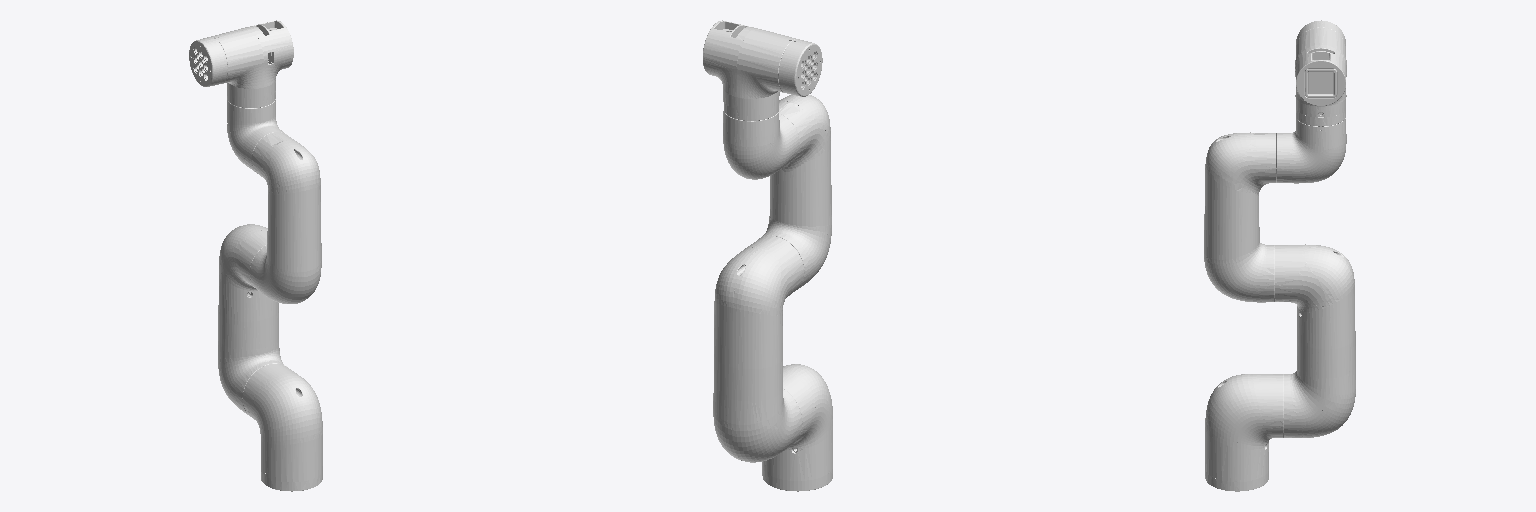
The robot description file, URDF, robot "cobot_reassembled":
<?xml version="1.0" encoding="utf-8"?>
<!-- This URDF was automatically created by SolidWorks to URDF Exporter! Originally created by [author] ([email redacted]) 
     Commit Version: 1.6.0-4-g7f85cfe  Build Version: 1.6.7995.38578
     For more information, please see http://wiki.ros.org/sw_urdf_exporter -->
<robot
  name="cobot_reassembled">
  <link
    name="base_link">
    <inertial>
      <origin
        xyz="0.00042355 -0.00096231 -0.013699"
        rpy="0 0 0" />
      <mass
        value="0.35308" />
      <inertia
        ixx="0.00027585"
        ixy="4.4784E-06"
        ixz="1.1071E-06"
        iyy="0.00039734"
        iyz="-3.5618E-07"
        izz="0.00031604" />
    </inertial>
    <visual>
      <origin
        xyz="0 0 0"
        rpy="0 0 0" />
      <geometry>
        <mesh
          filename="package://cobot_reassembled/meshes/base_link.STL" />
      </geometry>
      <material
        name="">
        <color
          rgba="0.94118 0.94118 0.94118 1" />
      </material>
    </visual>
    <collision>
      <origin
        xyz="0 0 0"
        rpy="0 0 0" />
      <geometry>
        <mesh
          filename="package://cobot_reassembled/meshes/base_link.STL" />
      </geometry>
    </collision>
  </link>
  <link
    name="link1">
    <inertial>
      <origin
        xyz="-0.0068088 -5.0413E-06 -0.042736"
        rpy="0 0 0" />
      <mass
        value="0.036249" />
      <inertia
        ixx="3.1421E-05"
        ixy="6.4347E-09"
        ixz="-7.5656E-06"
        iyy="2.9104E-05"
        iyz="1.6027E-08"
        izz="1.5053E-05" />
    </inertial>
    <visual>
      <origin
        xyz="0 0 0"
        rpy="0 0 0" />
      <geometry>
        <mesh
          filename="package://cobot_reassembled/meshes/link1.STL" />
      </geometry>
      <material
        name="">
        <color
          rgba="0.94118 0.94118 0.94118 1" />
      </material>
    </visual>
    <collision>
      <origin
        xyz="0 0 0"
        rpy="0 0 0" />
      <geometry>
        <mesh
          filename="package://cobot_reassembled/meshes/link1.STL" />
      </geometry>
    </collision>
  </link>
  <joint
    name="joint1"
    type="revolute">
    <origin
      xyz="-0.00034183 0.013601 0.037459"
      rpy="3.1416 0 -1.5708" />
    <parent
      link="base_link" />
    <child
      link="link1" />
    <axis
      xyz="0 0 1" />
    <limit
      lower="0"
      upper="0"
      effort="0"
      velocity="0" />
  </joint>
  <link
    name="link2">
    <inertial>
      <origin
        xyz="-0.033096 3.8404E-06 -0.051615"
        rpy="0 0 0" />
      <mass
        value="0.066846" />
      <inertia
        ixx="0.000167"
        ixy="-4.1418E-09"
        ixz="5.9146E-07"
        iyy="0.00015836"
        iyz="-1.7813E-08"
        izz="2.0628E-05" />
    </inertial>
    <visual>
      <origin
        xyz="0 0 0"
        rpy="0 0 0" />
      <geometry>
        <mesh
          filename="package://cobot_reassembled/meshes/link2.STL" />
      </geometry>
      <material
        name="">
        <color
          rgba="0.94118 0.94118 0.94118 1" />
      </material>
    </visual>
    <collision>
      <origin
        xyz="0 0 0"
        rpy="0 0 0" />
      <geometry>
        <mesh
          filename="package://cobot_reassembled/meshes/link2.STL" />
      </geometry>
    </collision>
  </link>
  <joint
    name="joint2"
    type="revolute">
    <origin
      xyz="-0.025417 0 -0.06053"
      rpy="0 0 0" />
    <parent
      link="link1" />
    <child
      link="link2" />
    <axis
      xyz="1 0 0" />
    <limit
      lower="0"
      upper="0"
      effort="0"
      velocity="0" />
  </joint>
  <link
    name="link3">
    <inertial>
      <origin
        xyz="0.020497 -1.6669E-07 -0.043723"
        rpy="0 0 0" />
      <mass
        value="0.053333" />
      <inertia
        ixx="0.0001016"
        ixy="-6.2017E-10"
        ixz="4.0389E-06"
        iyy="9.7398E-05"
        iyz="-8.2572E-09"
        izz="1.3696E-05" />
    </inertial>
    <visual>
      <origin
        xyz="0 0 0"
        rpy="0 0 0" />
      <geometry>
        <mesh
          filename="package://cobot_reassembled/meshes/link3.STL" />
      </geometry>
      <material
        name="">
        <color
          rgba="0.94118 0.94118 0.94118 1" />
      </material>
    </visual>
    <collision>
      <origin
        xyz="0 0 0"
        rpy="0 0 0" />
      <geometry>
        <mesh
          filename="package://cobot_reassembled/meshes/link3.STL" />
      </geometry>
    </collision>
  </link>
  <joint
    name="joint3"
    type="revolute">
    <origin
      xyz="0 0 -0.11"
      rpy="0 0 0" />
    <parent
      link="link2" />
    <child
      link="link3" />
    <axis
      xyz="1 0 0" />
    <limit
      lower="0"
      upper="0"
      effort="0"
      velocity="0" />
  </joint>
  <link
    name="link4">
    <inertial>
      <origin
        xyz="-0.023055 1.5667E-05 -0.0076843"
        rpy="0 0 0" />
      <mass
        value="0.024064" />
      <inertia
        ixx="7.7384E-06"
        ixy="1.7688E-09"
        ixz="-3.3102E-06"
        iyy="9.3259E-06"
        iyz="-8.0216E-10"
        izz="7.8192E-06" />
    </inertial>
    <visual>
      <origin
        xyz="0 0 0"
        rpy="0 0 0" />
      <geometry>
        <mesh
          filename="package://cobot_reassembled/meshes/link4.STL" />
      </geometry>
      <material
        name="">
        <color
          rgba="0.94118 0.94118 0.94118 1" />
      </material>
    </visual>
    <collision>
      <origin
        xyz="0 0 0"
        rpy="0 0 0" />
      <geometry>
        <mesh
          filename="package://cobot_reassembled/meshes/link4.STL" />
      </geometry>
    </collision>
  </link>
  <joint
    name="joint4"
    type="revolute">
    <origin
      xyz="-0.0041202 0 -0.096"
      rpy="0 0 0" />
    <parent
      link="link3" />
    <child
      link="link4" />
    <axis
      xyz="1 0 0" />
    <limit
      lower="0"
      upper="0"
      effort="0"
      velocity="0" />
  </joint>
  <link
    name="link5">
    <inertial>
      <origin
        xyz="-8.7966E-05 0.00091929 -0.028873"
        rpy="0 0 0" />
      <mass
        value="0.031463" />
      <inertia
        ixx="1.3287E-05"
        ixy="2.587E-08"
        ixz="-1.3828E-08"
        iyy="1.337E-05"
        iyz="2.9969E-06"
        izz="8.5302E-06" />
    </inertial>
    <visual>
      <origin
        xyz="0 0 0"
        rpy="0 0 0" />
      <geometry>
        <mesh
          filename="package://cobot_reassembled/meshes/link5.STL" />
      </geometry>
      <material
        name="">
        <color
          rgba="0.94118 0.94118 0.94118 1" />
      </material>
    </visual>
    <collision>
      <origin
        xyz="0 0 0"
        rpy="0 0 0" />
      <geometry>
        <mesh
          filename="package://cobot_reassembled/meshes/link5.STL" />
      </geometry>
    </collision>
  </link>
  <joint
    name="joint5"
    type="revolute">
    <origin
      xyz="-0.033558 0 -0.034811"
      rpy="0 0 0" />
    <parent
      link="link4" />
    <child
      link="link5" />
    <axis
      xyz="0 0 1" />
    <limit
      lower="0"
      upper="0"
      effort="0"
      velocity="0" />
  </joint>
  <link
    name="link6">
    <inertial>
      <origin
        xyz="-1.1836E-06 0.012992 3.0572E-06"
        rpy="0 0 0" />
      <mass
        value="0.0077053" />
      <inertia
        ixx="8.4024E-07"
        ixy="5.3751E-11"
        ixz="-7.4273E-14"
        iyy="1.3552E-06"
        iyz="1.3121E-10"
        izz="8.4061E-07" />
    </inertial>
    <visual>
      <origin
        xyz="0 0 0"
        rpy="0 0 0" />
      <geometry>
        <mesh
          filename="package://cobot_reassembled/meshes/link6.STL" />
      </geometry>
      <material
        name="">
        <color
          rgba="0.94118 0.94118 0.94118 1" />
      </material>
    </visual>
    <collision>
      <origin
        xyz="0 0 0"
        rpy="0 0 0" />
      <geometry>
        <mesh
          filename="package://cobot_reassembled/meshes/link6.STL" />
      </geometry>
    </collision>
  </link>
  <joint
    name="jiont6"
    type="revolute">
    <origin
      xyz="0 0.026166 -0.039938"
      rpy="0 0 0" />
    <parent
      link="link5" />
    <child
      link="link6" />
    <axis
      xyz="0 1 0" />
    <limit
      lower="0"
      upper="0"
      effort="0"
      velocity="0" />
  </joint>
</robot>

--- Render facts (derived) ---
3 views of the same robot in one strip: view 1: azimuth 30°, elevation 25°; view 2: azimuth 150°, elevation 25°; view 3: azimuth 270°, elevation 25° (orthographic).
Robot: cobot_reassembled — 7 links, 6 joints (6 revolute); root link base_link; default pose: all joints at 0.
Visible links, largest first — view 1: link3, link2, link1, link5, link4, link6; view 2: link2, link3, link5, link1, link4, link6; view 3: link2, link3, link1, link5, link4.
Link boxes in pixels (x1,y1,x2,y2): link3: [250, 132, 321, 303]; link2: [218, 224, 286, 414]; link1: [243, 364, 322, 491]; link5: [211, 20, 293, 107]; link4: [227, 99, 286, 173]; link6: [189, 37, 227, 86]; link2: [713, 236, 803, 462]; link3: [758, 95, 831, 289]; link5: [703, 20, 795, 120]; link1: [762, 364, 832, 491]; link4: [723, 111, 799, 179]; link6: [778, 39, 822, 96]; link2: [1275, 244, 1355, 437]; link3: [1204, 132, 1275, 302]; link1: [1205, 374, 1283, 491]; link5: [1295, 28, 1346, 126]; link4: [1276, 118, 1346, 183].
Bounding box of the posed robot: 0.073 × 0.1145 × 0.3608 m (x, y, z).
Meshes: 7 distinct files referenced, 6 mesh visuals loaded (6 binary STL); not drawn: 1 (reference not matched to a file when rendering).